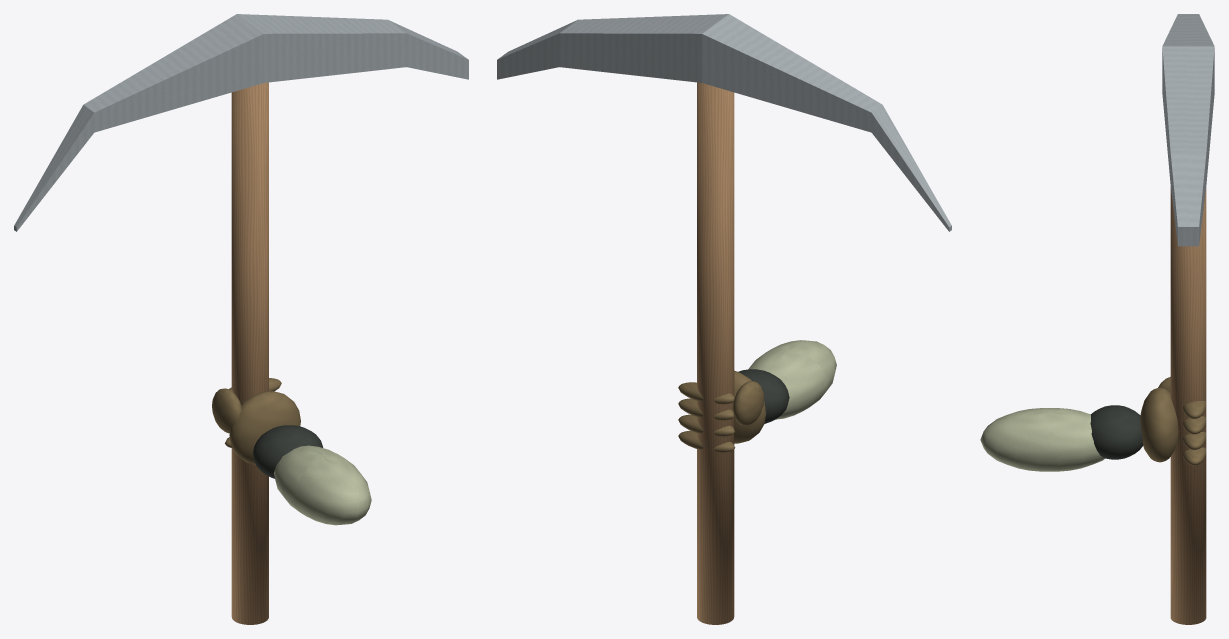
Rendered from pickaxe.glb.
3 views of the same model, side by side, from view 1: azimuth 30°, elevation 25°; view 2: azimuth 150°, elevation 25°; view 3: azimuth 270°, elevation 25° (orthographic). The views are drawn at different scales.
Parts seen in each view (by area): view 1: forged pick, pick haft, canvas sleeve, gloved palm, glove cuff, opposing thumb; view 2: forged pick, pick haft, canvas sleeve, glove cuff, opposing thumb, gloved palm; view 3: pick haft, forged pick, canvas sleeve, glove cuff, gloved palm, curled grip finger.003.
Boxes of the visible parts, left/top/right/bottom form: forged pick: left=14, top=14, right=468, bottom=231; pick haft: left=231, top=82, right=268, bottom=624; canvas sleeve: left=273, top=445, right=371, bottom=525; gloved palm: left=229, top=391, right=300, bottom=464; glove cuff: left=252, top=425, right=323, bottom=478; opposing thumb: left=212, top=388, right=241, bottom=433; forged pick: left=497, top=14, right=951, bottom=231; pick haft: left=697, top=82, right=734, bottom=624; canvas sleeve: left=748, top=340, right=836, bottom=419; glove cuff: left=738, top=369, right=789, bottom=423; opposing thumb: left=733, top=381, right=764, bottom=425; gloved palm: left=734, top=370, right=766, bottom=443; pick haft: left=1170, top=187, right=1206, bottom=624; forged pick: left=1162, top=14, right=1214, bottom=246; canvas sleeve: left=980, top=408, right=1104, bottom=471; glove cuff: left=1090, top=405, right=1143, bottom=459; gloved palm: left=1140, top=387, right=1178, bottom=462; curled grip finger.003: left=1182, top=401, right=1206, bottom=418.
Size of the model in its own units: 0.61 by 0.772 by 0.287.
Materials: 5 (5 with a texture image).
